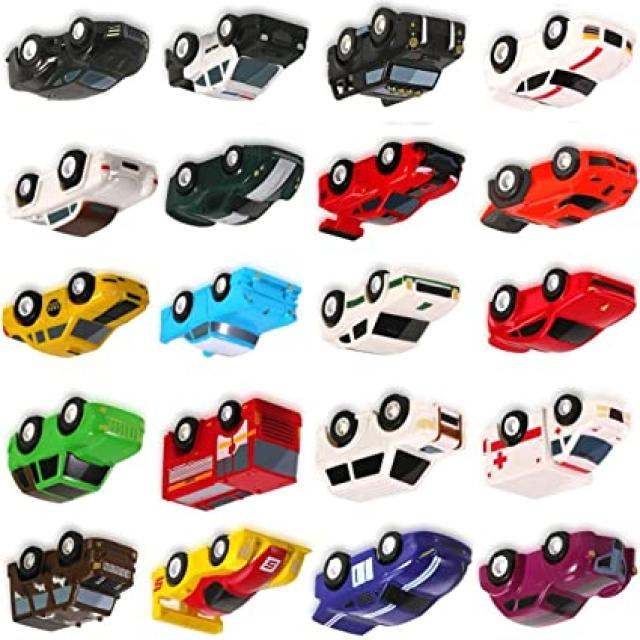Car: (312, 531, 473, 637), (479, 532, 638, 630), (485, 13, 638, 112), (8, 397, 146, 506), (318, 142, 465, 241), (481, 147, 638, 236), (9, 150, 160, 238), (486, 268, 637, 354), (1, 272, 150, 359), (166, 13, 310, 102), (6, 18, 151, 103), (321, 270, 461, 358), (166, 145, 306, 229)
